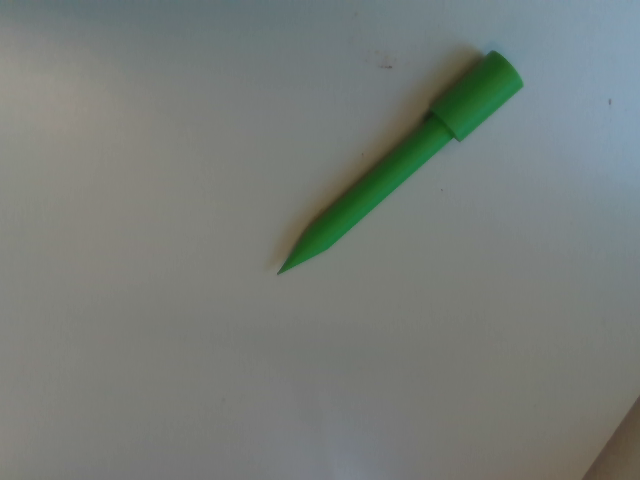Probe: (273, 45, 532, 283)
